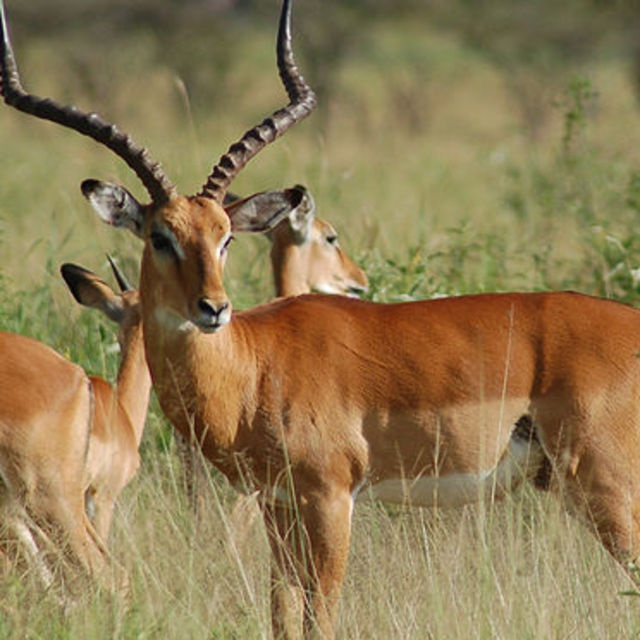impala: (4, 30, 640, 633)
